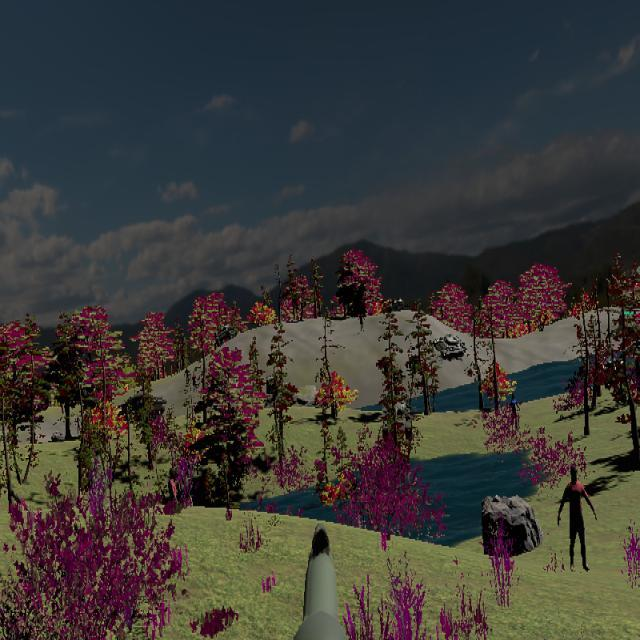Human: (557, 465, 597, 573)
Tank: (435, 332, 466, 360), (435, 332, 467, 359)
